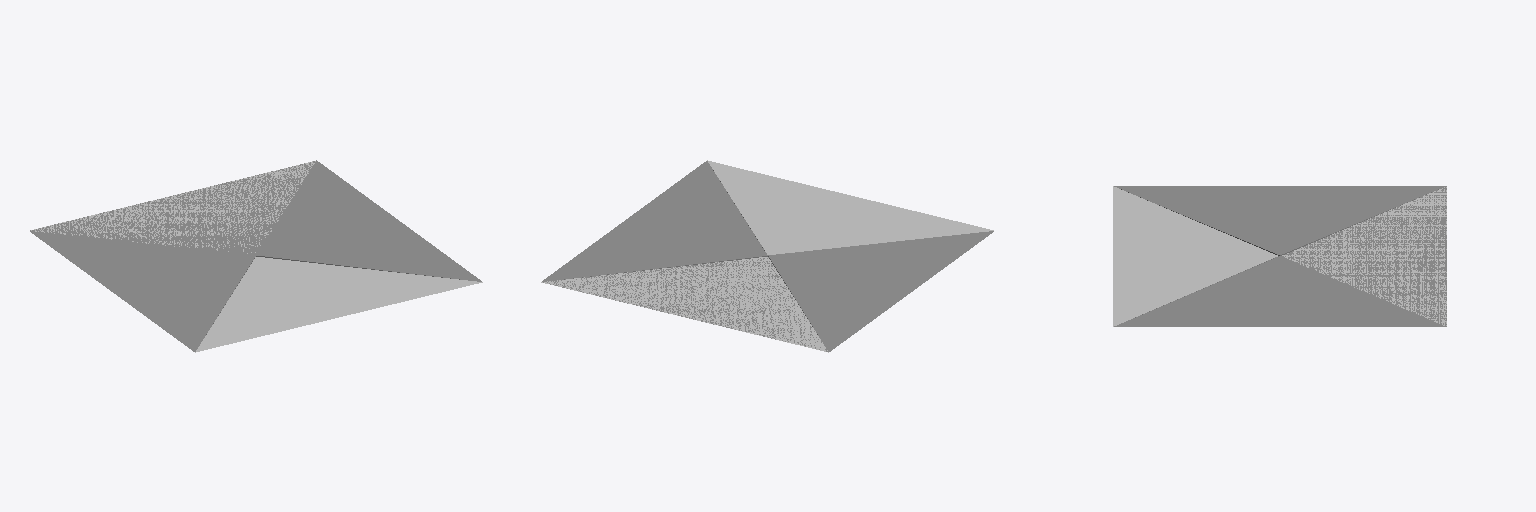
File: frame0.obj
The picture shows the model from 3 angles: view 1: azimuth 30°, elevation 25°; view 2: azimuth 150°, elevation 25°; view 3: azimuth 270°, elevation 25°; orthographic projection.
Parts seen in each view (by area): view 1: Cube, ground; view 2: Cube, ground; view 3: Cube, ground.
Part boxes in pixels (x1,y1,x2,y2): Cube: (30, 160, 481, 351); ground: (31, 161, 482, 352); Cube: (542, 161, 993, 351); ground: (541, 160, 993, 352); Cube: (1114, 186, 1446, 326); ground: (1113, 186, 1446, 326).
Bounding box in the file's own units: 2000 × 7 × 2000.